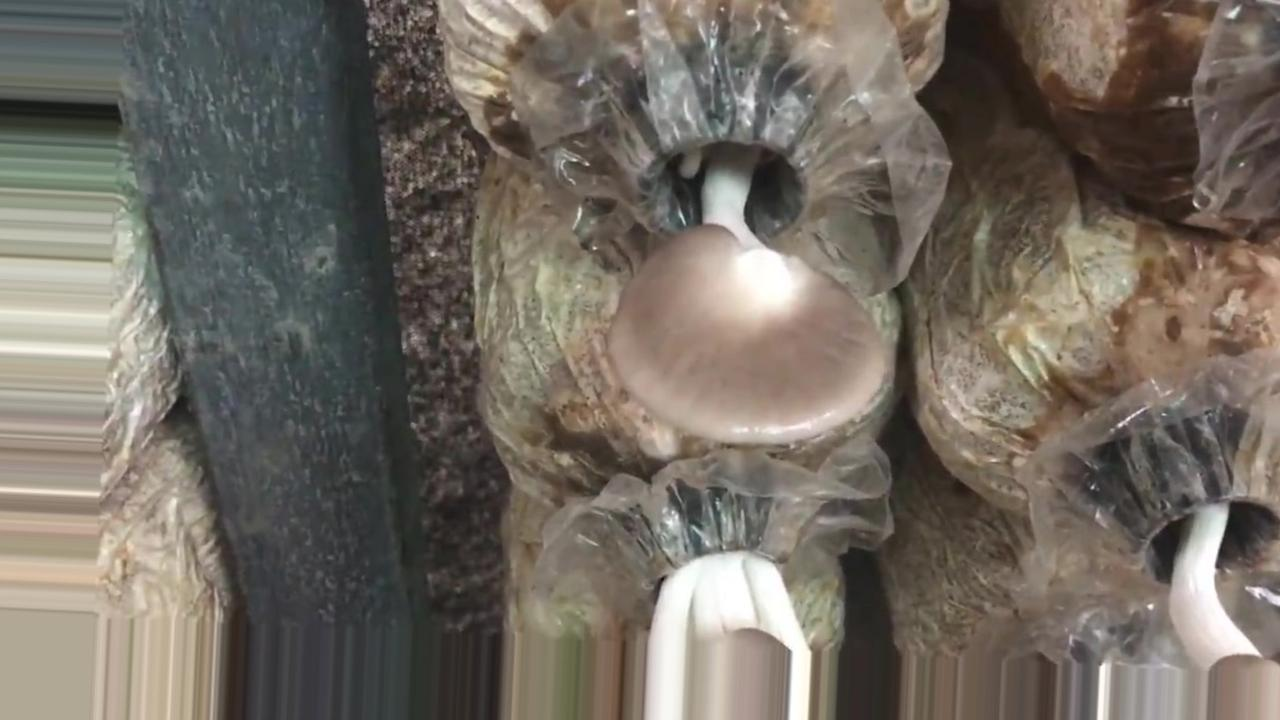nam: (607, 81, 889, 449)
